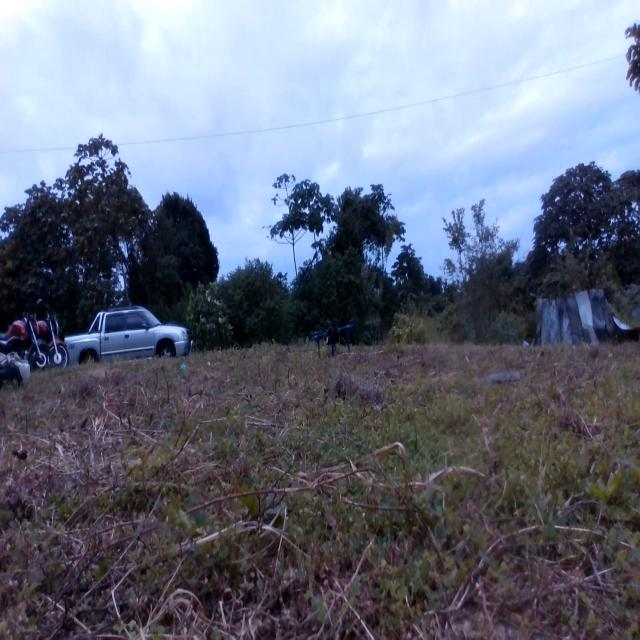-uav-: (305, 296, 363, 371)
